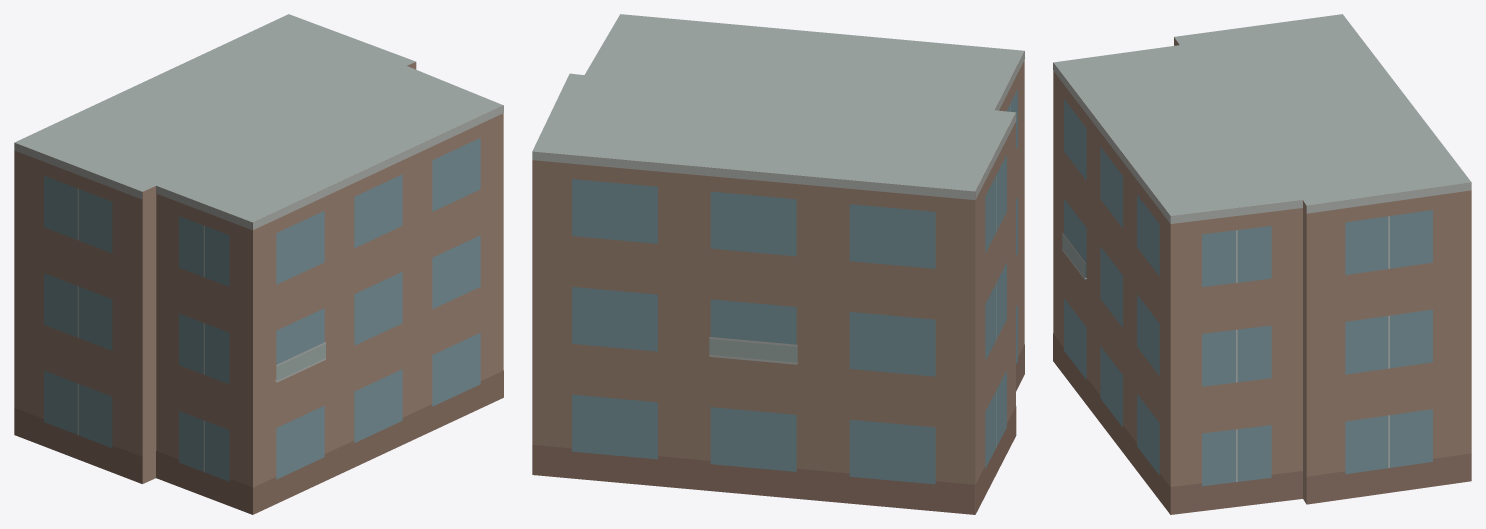
Rendered from survey-upis-32625146.glb.
The picture shows the model from 3 angles, left to right: view 1: azimuth 30°, elevation 25°; view 2: azimuth 150°, elevation 25°; view 3: azimuth 270°, elevation 25°; orthographic projection. The views are drawn at different scales.
Visible parts, largest first — view 1: survey-upis-32625146.tmp; view 2: survey-upis-32625146.tmp; view 3: survey-upis-32625146.tmp.
Boxes of the visible parts, <box> form: survey-upis-32625146.tmp: <box>14,14,503,514</box>; survey-upis-32625146.tmp: <box>532,14,1024,514</box>; survey-upis-32625146.tmp: <box>1053,14,1471,514</box>.
Bounding box in the file's own units: 13.28 × 9.15 × 11.63.
